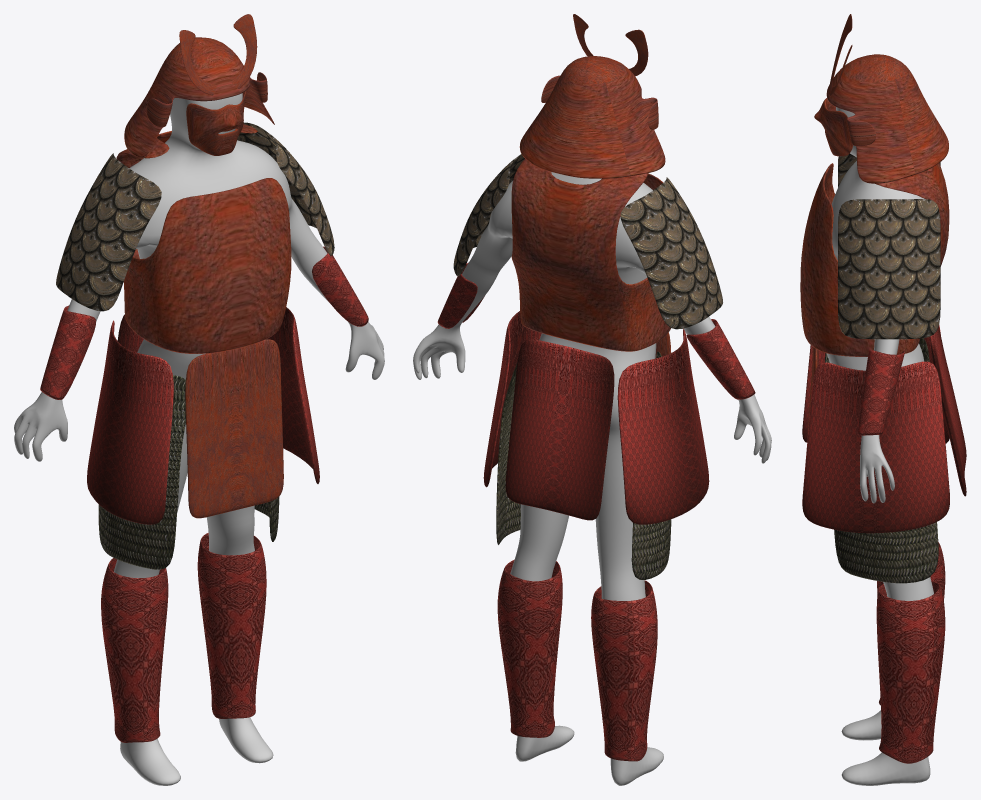
The model's file is samurai2.dae.
The picture shows the model from 3 angles, left to right: view 1: azimuth 30°, elevation 25°; view 2: azimuth 150°, elevation 25°; view 3: azimuth 270°, elevation 25°; orthographic projection. The views are drawn at different scales.
Parts seen in each view (by area): view 1: pCube4; view 2: pCube4; view 3: pCube4.
Boxes of the visible parts, x1=… form: pCube4: x1=14, y1=14, x2=384, y2=785; pCube4: x1=413, y1=14, x2=771, y2=785; pCube4: x1=800, y1=14, x2=966, y2=785.
Bounding box in the file's own units: 3.91 × 7.62 × 1.57.
